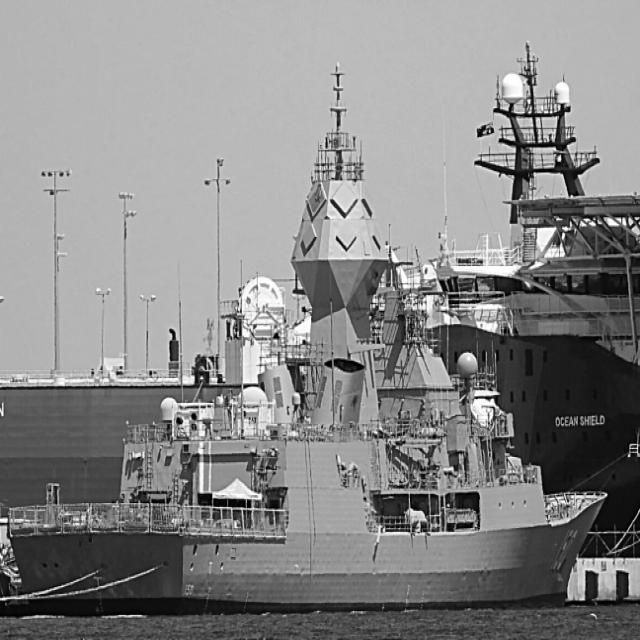Fragata: (7, 58, 612, 616)
